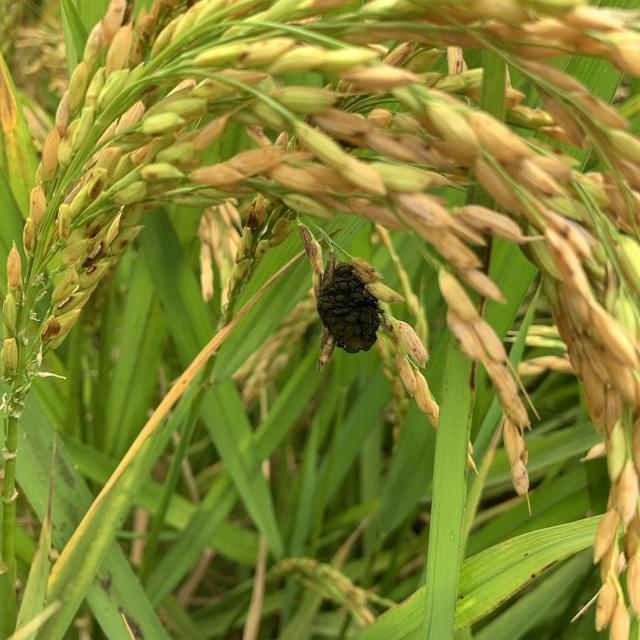Leaf_Scald: (316, 258, 382, 356)
